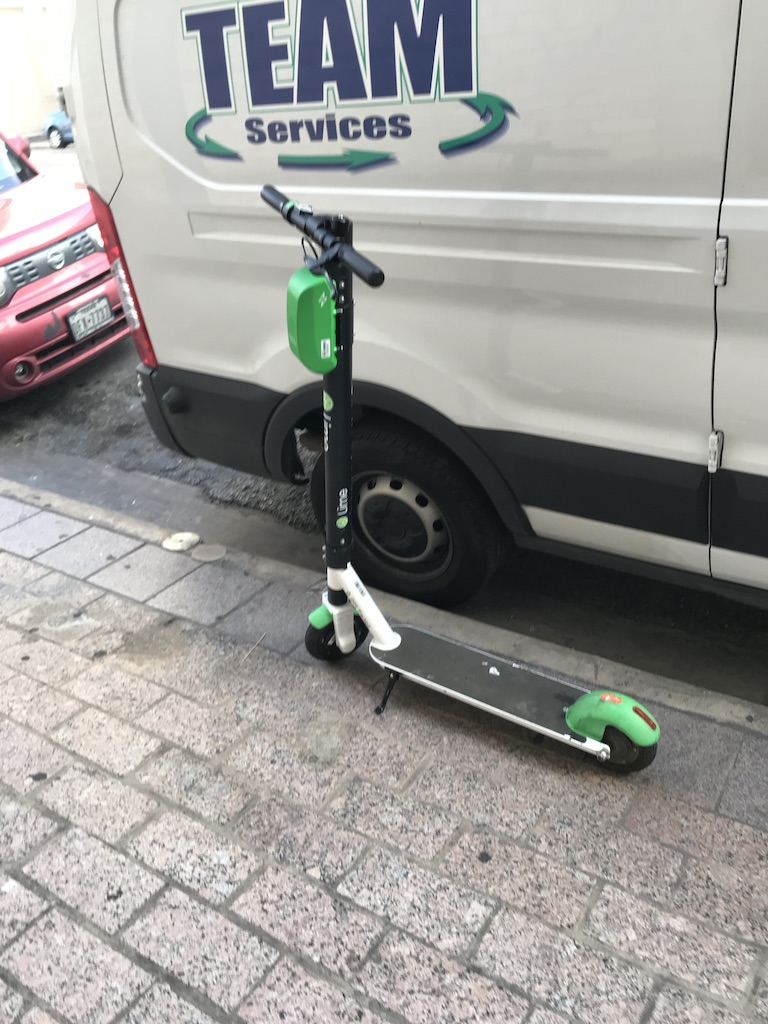scooter: (259, 182, 665, 773)
